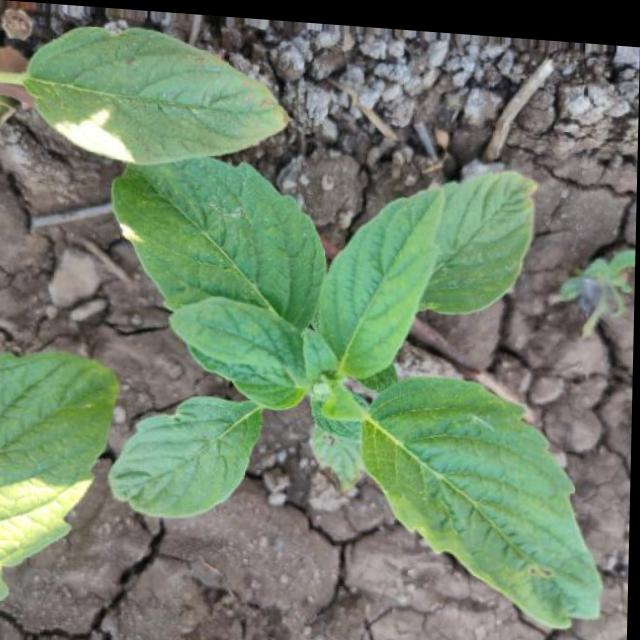crop: (100, 137, 614, 621)
